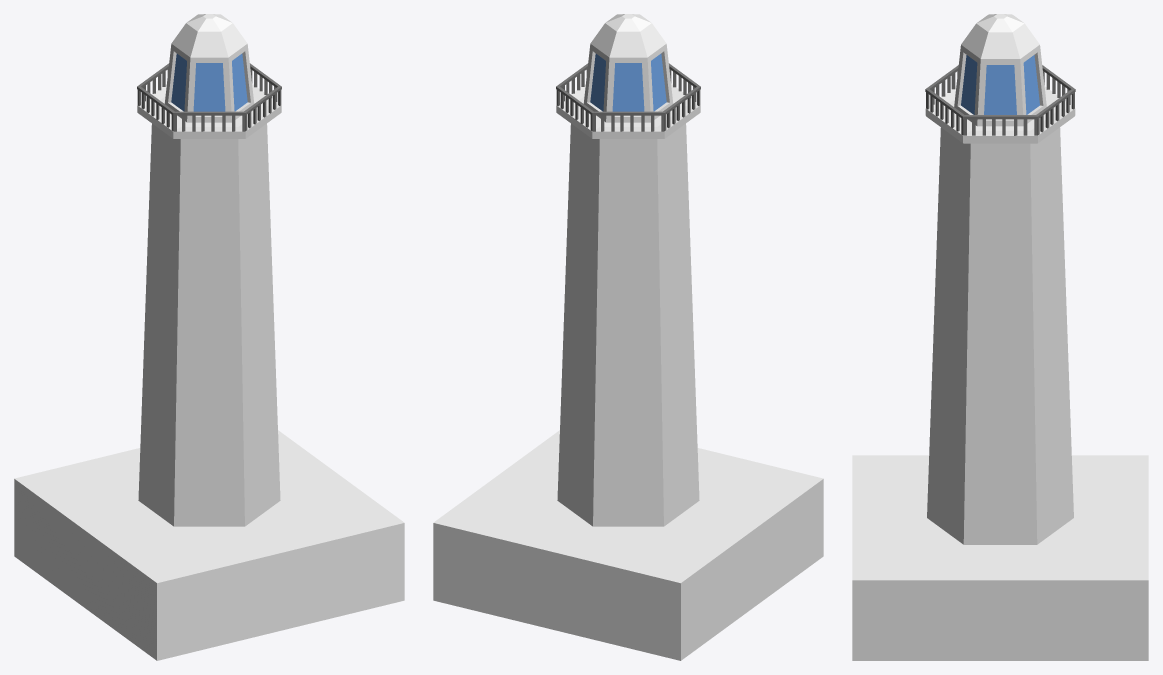
The model's file is lighthouse1.fbx.
3 renders of one model, left to right at view 1: azimuth 30°, elevation 25°; view 2: azimuth 150°, elevation 25°; view 3: azimuth 270°, elevation 25°, orthographic. The views are drawn at different scales.
Parts seen in each view (by area): view 1: Cube, Cube.001; view 2: Cube, Cube.001; view 3: Cube, Cube.001.
Part boxes in pixels (<box>): Cube: <box>14,14,404,660</box>; Cube.001: <box>137,63,281,131</box>; Cube: <box>433,14,823,660</box>; Cube.001: <box>556,63,700,131</box>; Cube: <box>852,14,1148,660</box>; Cube.001: <box>925,65,1075,135</box>.
Size of the model in its own units: 200 by 434 by 200.
